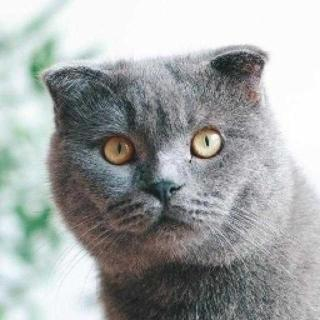cat: (44, 54, 284, 269)
nose: (140, 166, 190, 210)
